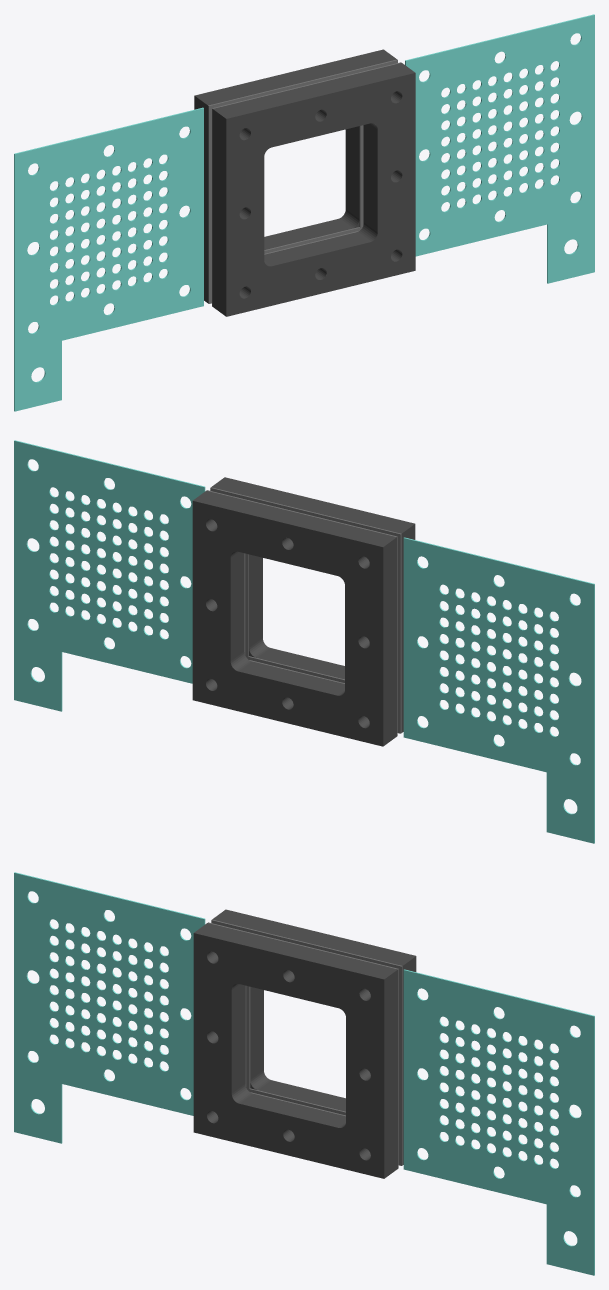
File: application-energy.glb
The picture shows the model from 3 angles, top to bottom: view 1: azimuth 30°, elevation 25°; view 2: azimuth 150°, elevation 25°; view 3: azimuth 330°, elevation 25°; orthographic projection.
Visible parts, largest first — view 1: part_007, part_003, part_001, part_009, part_008, part_002; view 2: part_007, part_003, part_009, part_001, part_002, part_008; view 3: part_003, part_007, part_001, part_009, part_008, part_002.
Boxes of the visible parts, <box> form: part_007: <box>14,107,203,411</box>; part_003: <box>405,14,594,283</box>; part_001: <box>212,63,415,316</box>; part_009: <box>194,49,396,302</box>; part_008: <box>208,59,397,303</box>; part_002: <box>212,62,401,306</box>; part_007: <box>403,537,594,843</box>; part_003: <box>14,440,205,711</box>; part_009: <box>192,490,396,746</box>; part_001: <box>211,477,415,732</box>; part_002: <box>210,487,401,733</box>; part_008: <box>207,490,397,736</box>; part_003: <box>403,969,594,1275</box>; part_007: <box>14,872,205,1143</box>; part_001: <box>193,923,397,1178</box>; part_009: <box>212,909,416,1164</box>; part_008: <box>211,919,402,1165</box>; part_002: <box>208,922,398,1168</box>.
Size of the model in its own units: 232 by 98.66 by 22.2.
